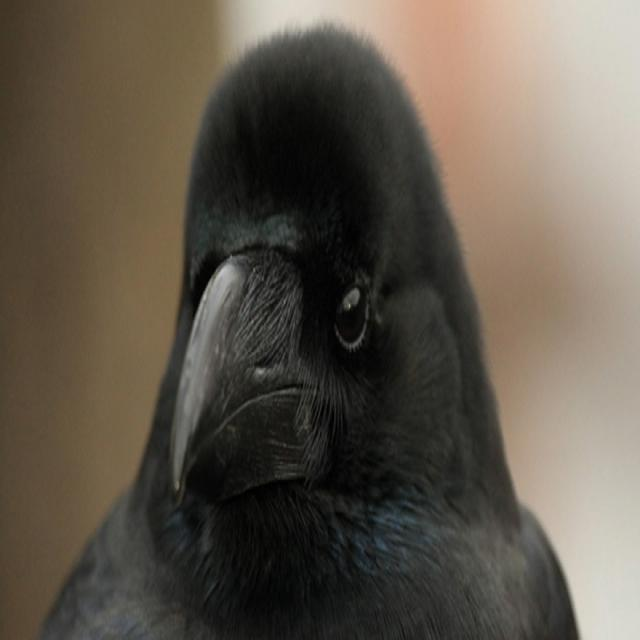crow: (38, 1, 590, 640)
